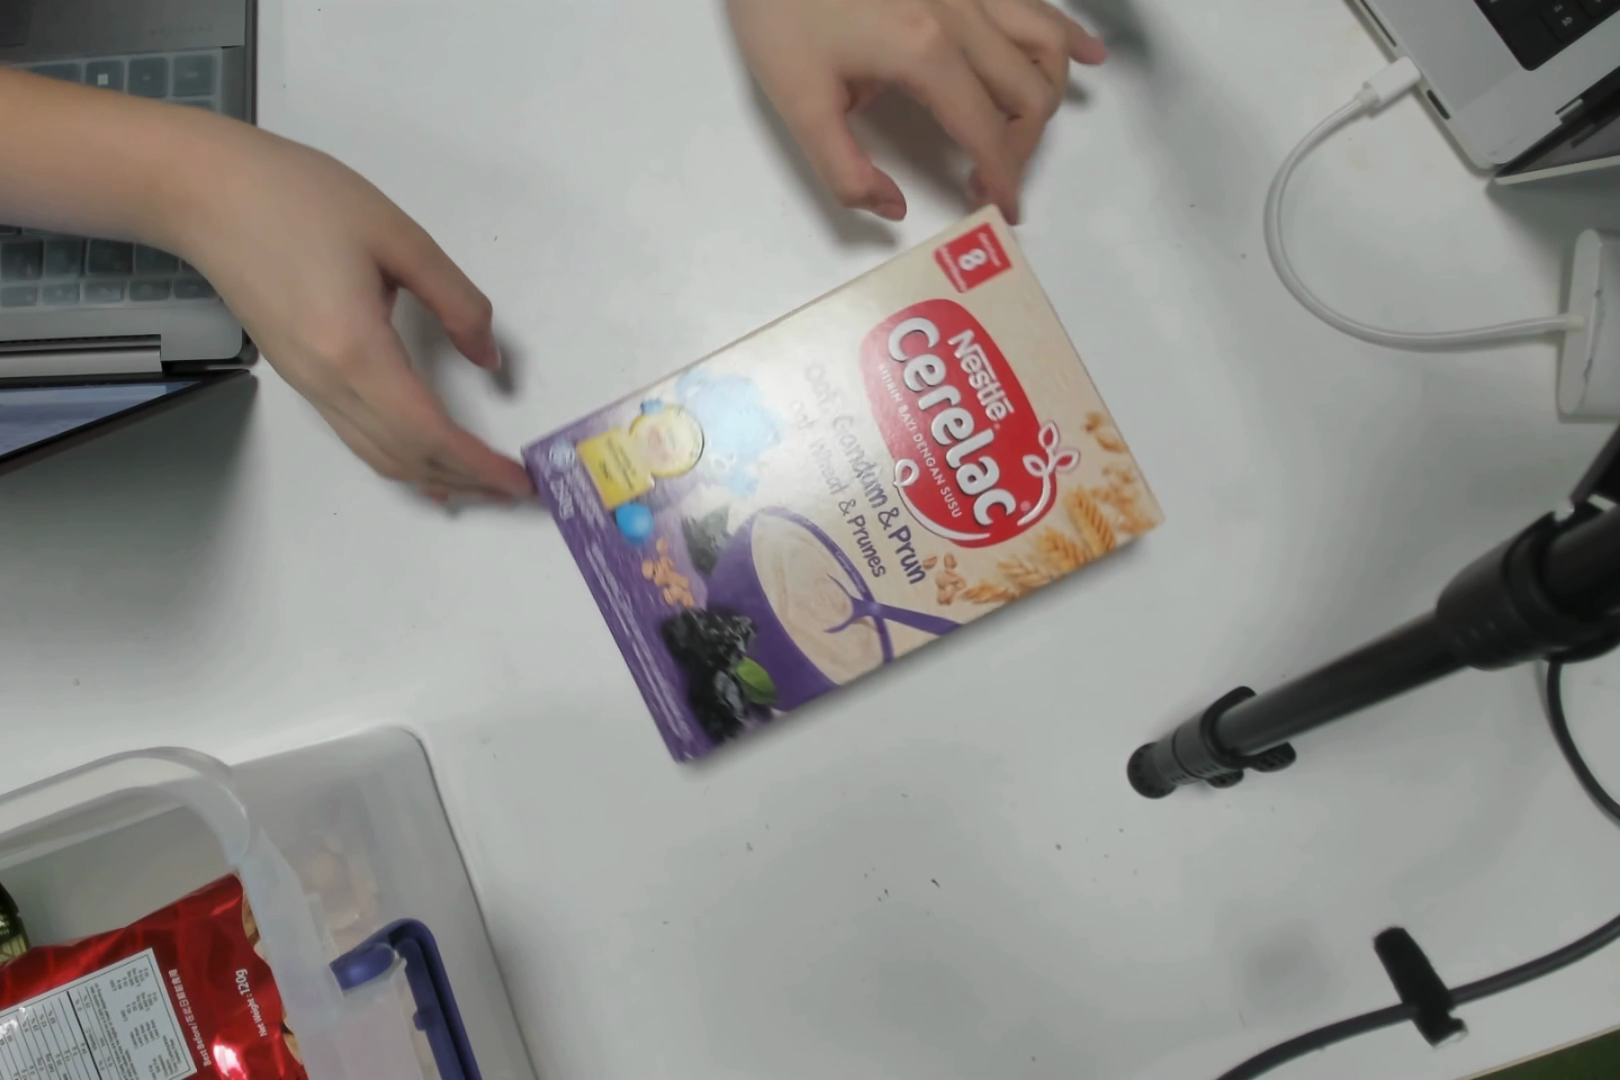d: (548, 219, 1151, 714)
